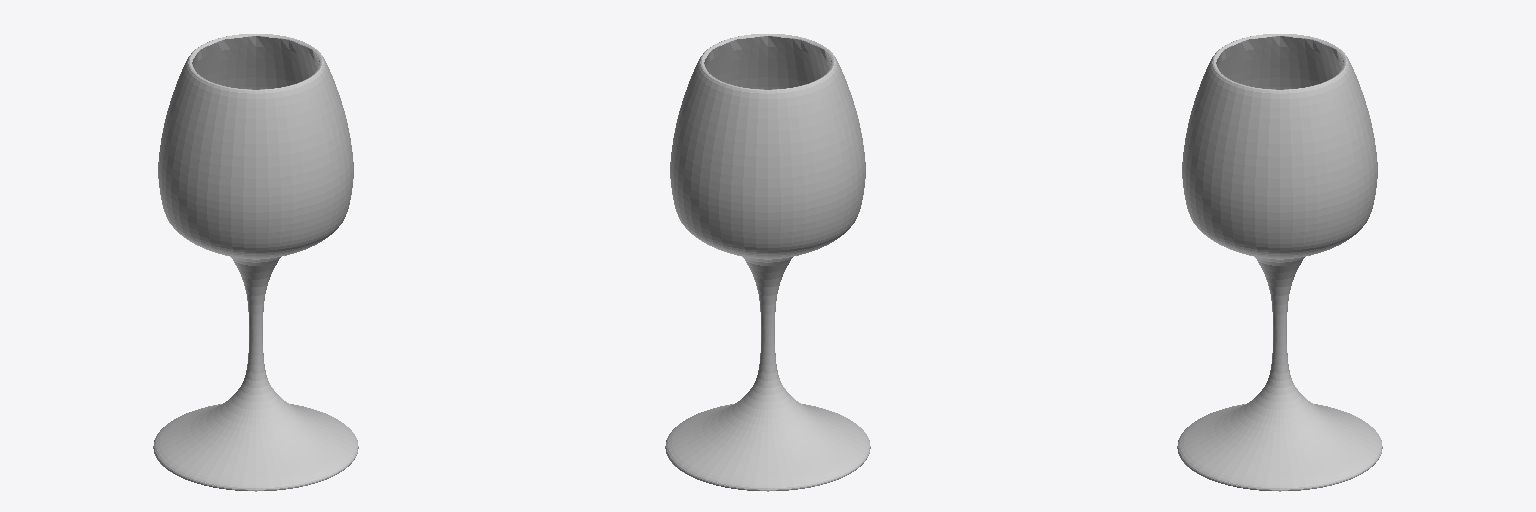
File: glass9.obj
3 views of the same model, side by side, from view 1: azimuth 30°, elevation 25°; view 2: azimuth 150°, elevation 25°; view 3: azimuth 270°, elevation 25° (orthographic).
Visible parts, largest first — view 1: 9; view 2: 9; view 3: 9.
Part boxes in pixels (bbox=[...]): 9: bbox=[153, 34, 358, 491]; 9: bbox=[665, 34, 870, 491]; 9: bbox=[1177, 34, 1382, 491].
Bounding box in the file's own units: 0.6328 × 1.32 × 0.6328.